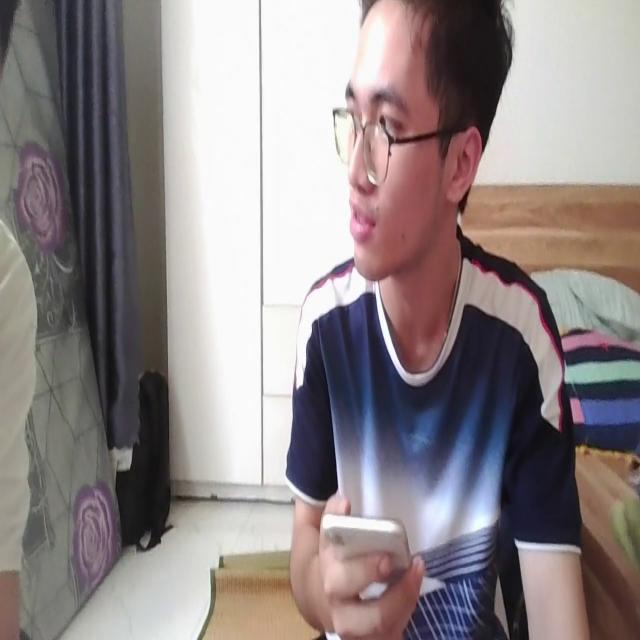phone: (320, 501, 418, 585)
student: (283, 0, 592, 640)
